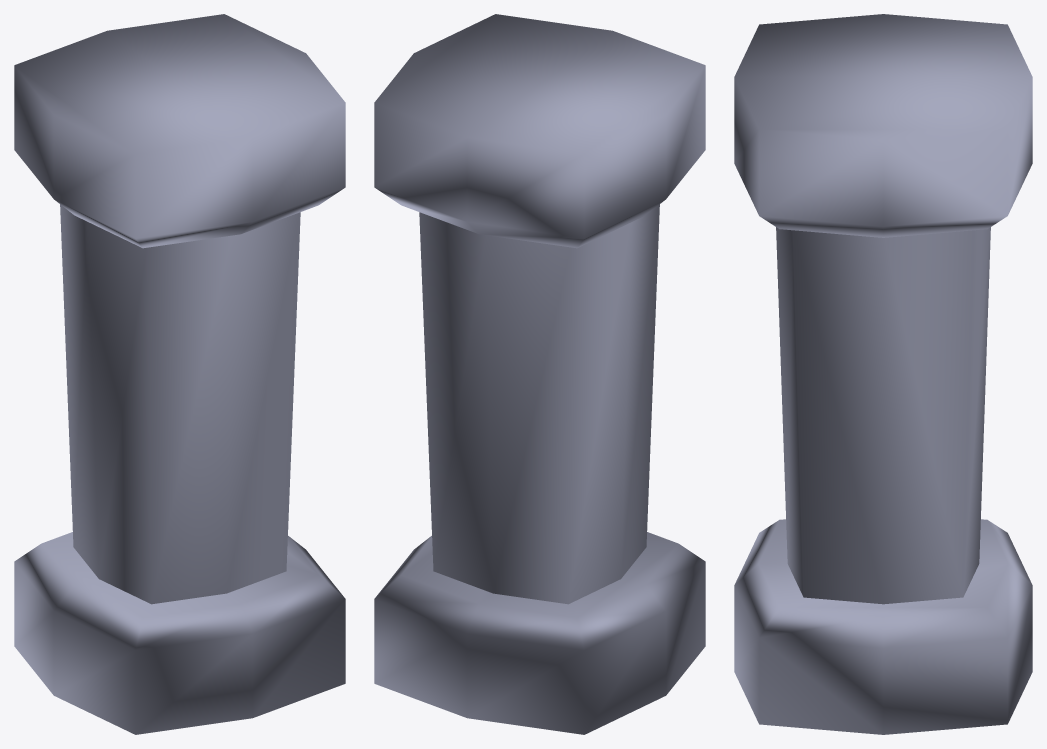
Rendered from kenney_mini-dungeon__column.fbx.
The picture shows the model from 3 angles, left to right: view 1: azimuth 30°, elevation 25°; view 2: azimuth 150°, elevation 25°; view 3: azimuth 270°, elevation 25°; orthographic projection. The views are drawn at different scales.
Parts seen in each view (by area): view 1: kenney_mini-dungeon__column__cave_stone; view 2: kenney_mini-dungeon__column__cave_stone; view 3: kenney_mini-dungeon__column__cave_stone.
Part boxes in pixels (box(x1,y1,x2,y2)): kenney_mini-dungeon__column__cave_stone: box(14, 14, 345, 734); kenney_mini-dungeon__column__cave_stone: box(374, 14, 705, 734); kenney_mini-dungeon__column__cave_stone: box(734, 14, 1032, 734).
Bounding box in the file's own units: 1.79 × 3.93 × 1.79.
